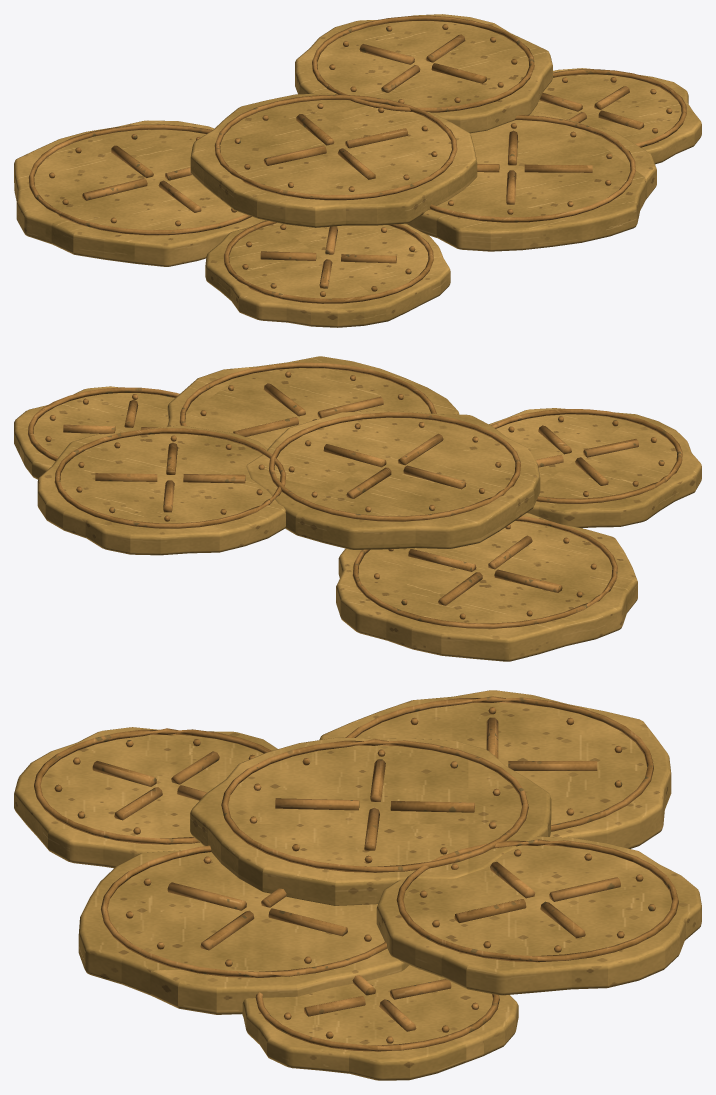
The model's file is coins.glb.
3 renders of one model, top to bottom at view 1: azimuth 30°, elevation 25°; view 2: azimuth 150°, elevation 25°; view 3: azimuth 270°, elevation 25°, orthographic. The views are drawn at different scales.
Visible parts, largest first — view 1: TexturedSurface.003; view 2: TexturedSurface.003; view 3: TexturedSurface.003.
Boxes of the visible parts, left/top/right/bottom form: TexturedSurface.003: left=14, top=14, right=701, bottom=327; TexturedSurface.003: left=14, top=356, right=701, bottom=661; TexturedSurface.003: left=14, top=690, right=701, bottom=1080.
Bounding box in the file's own units: 0.3383 × 0.0329 × 0.2579.
2 materials, 2 textured.
